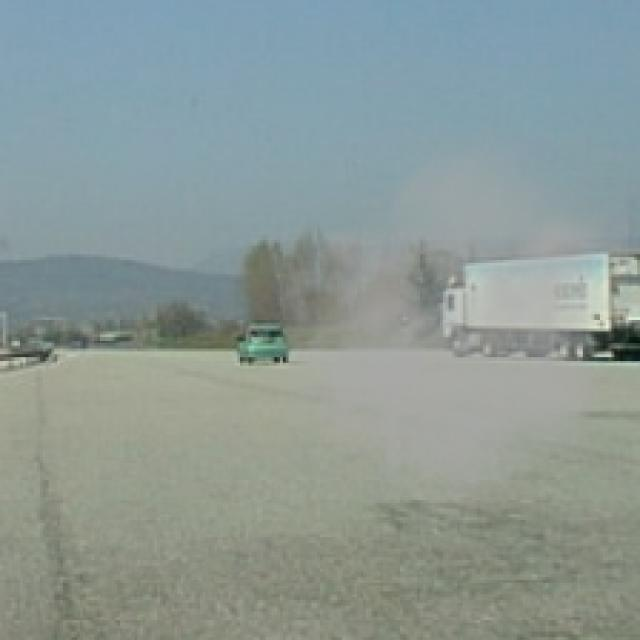smoke: (234, 120, 629, 537)
